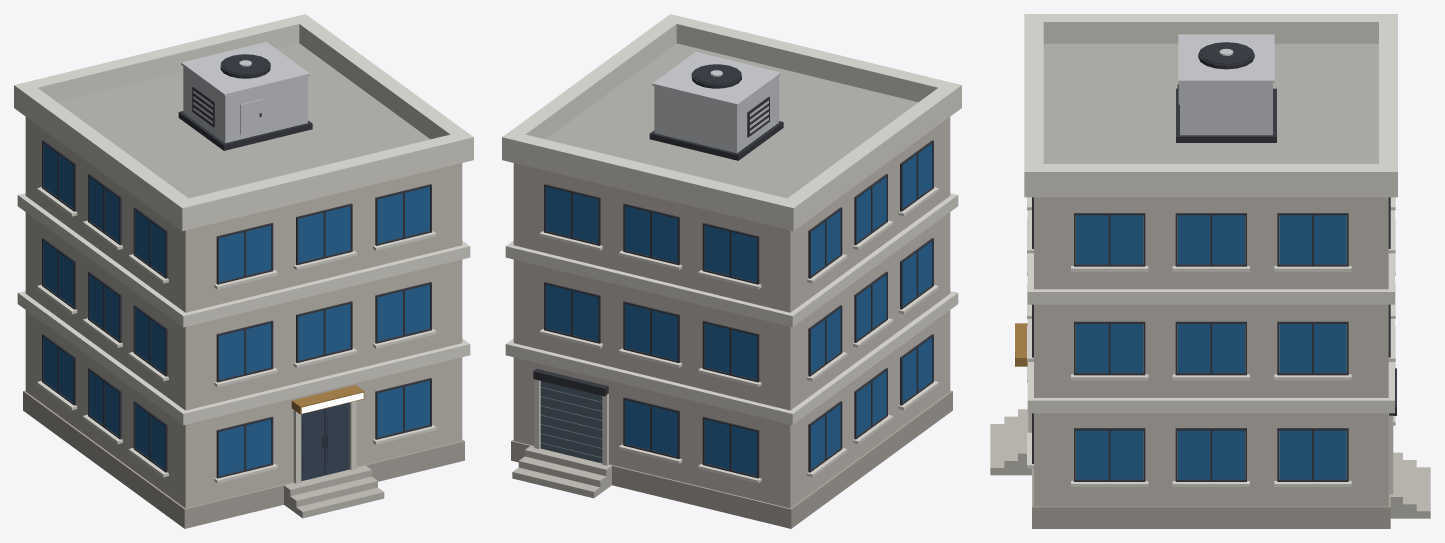
The model's file is office building.fbx.
The picture shows the model from 3 angles, left to right: view 1: azimuth 30°, elevation 25°; view 2: azimuth 150°, elevation 25°; view 3: azimuth 270°, elevation 25°; orthographic projection. The views are drawn at different scales.
Visible parts, largest first — view 1: Win_F1_Right_2.35_Glass_0; view 2: Win_F1_Right_2.35_Glass_0; view 3: Win_F1_Right_2.35_Glass_0.
Part boxes in pixels (x1,y1,x2,y2): Win_F1_Right_2.35_Glass_0: [14, 14, 473, 528]; Win_F1_Right_2.35_Glass_0: [502, 14, 961, 528]; Win_F1_Right_2.35_Glass_0: [990, 14, 1430, 528].
Size of the model in its own units: 864 by 1036 by 1018.
